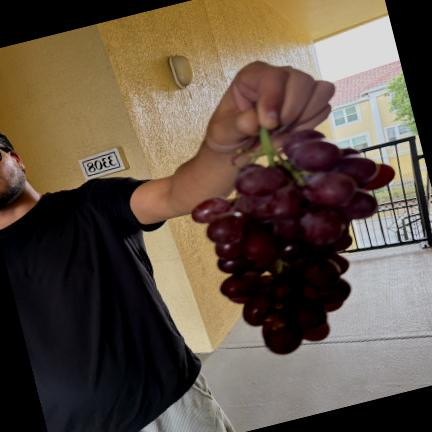grape_cluster: (192, 128, 394, 354)
